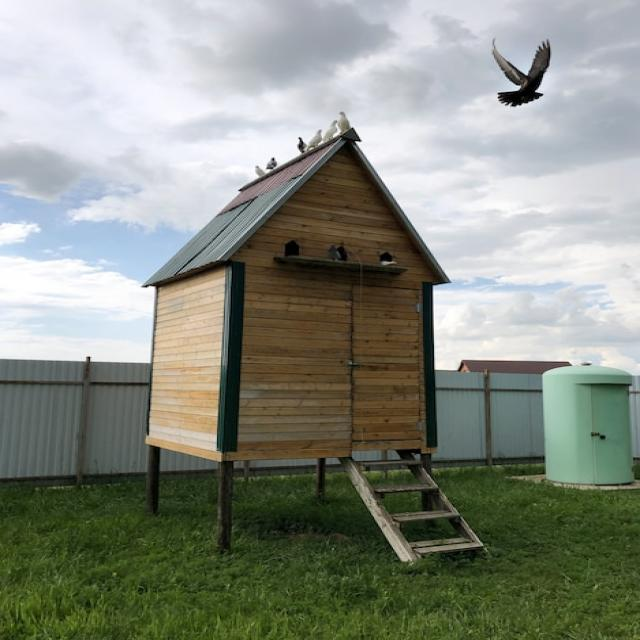bird: (490, 37, 552, 108), (325, 119, 341, 142), (308, 129, 324, 150), (337, 111, 351, 132), (297, 136, 309, 154), (266, 157, 278, 170), (254, 165, 266, 177)
